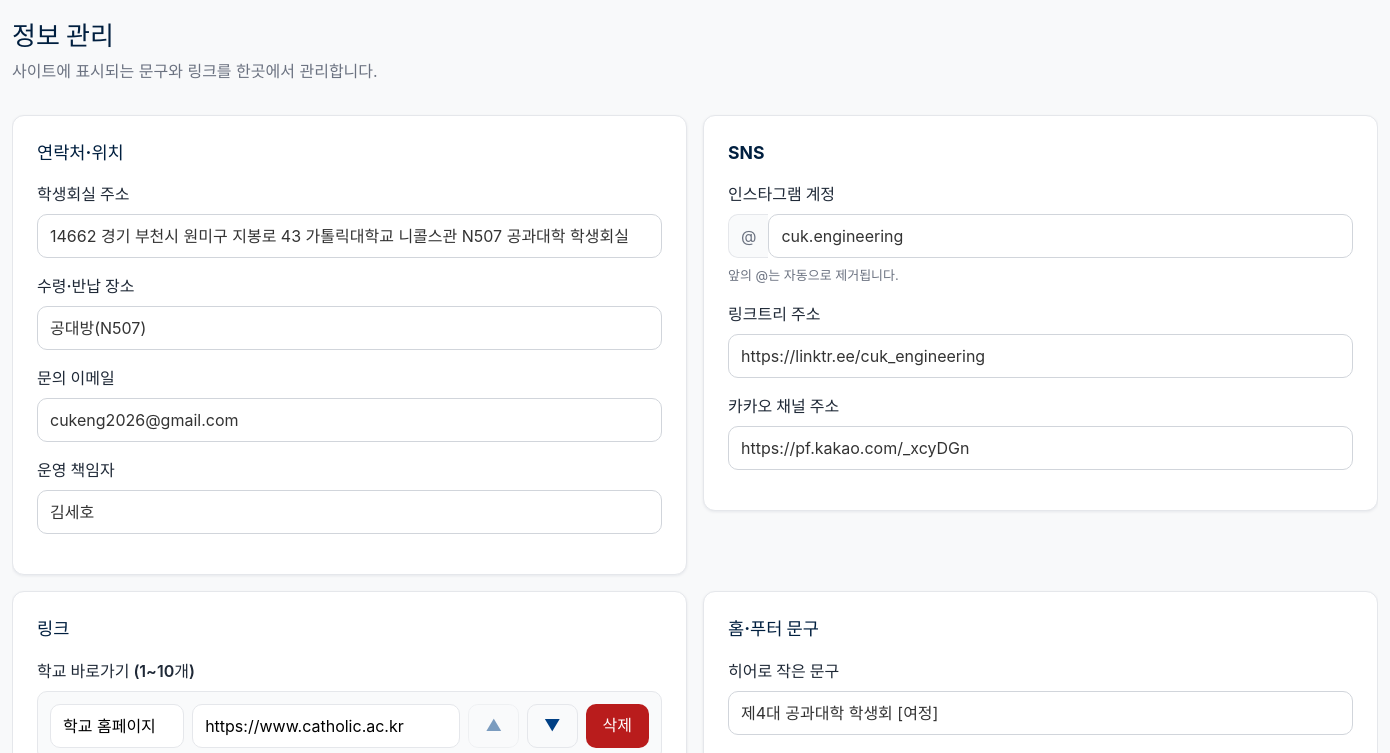
Test: AdminSiteInfoPage › detects link list changes deeply
The image size is (1390, 753).
Click the button with aria-label "1번째 링크 삭제".
click(617, 726)  # box x1=586 y1=704 x2=649 y2=748
(page scrolled)
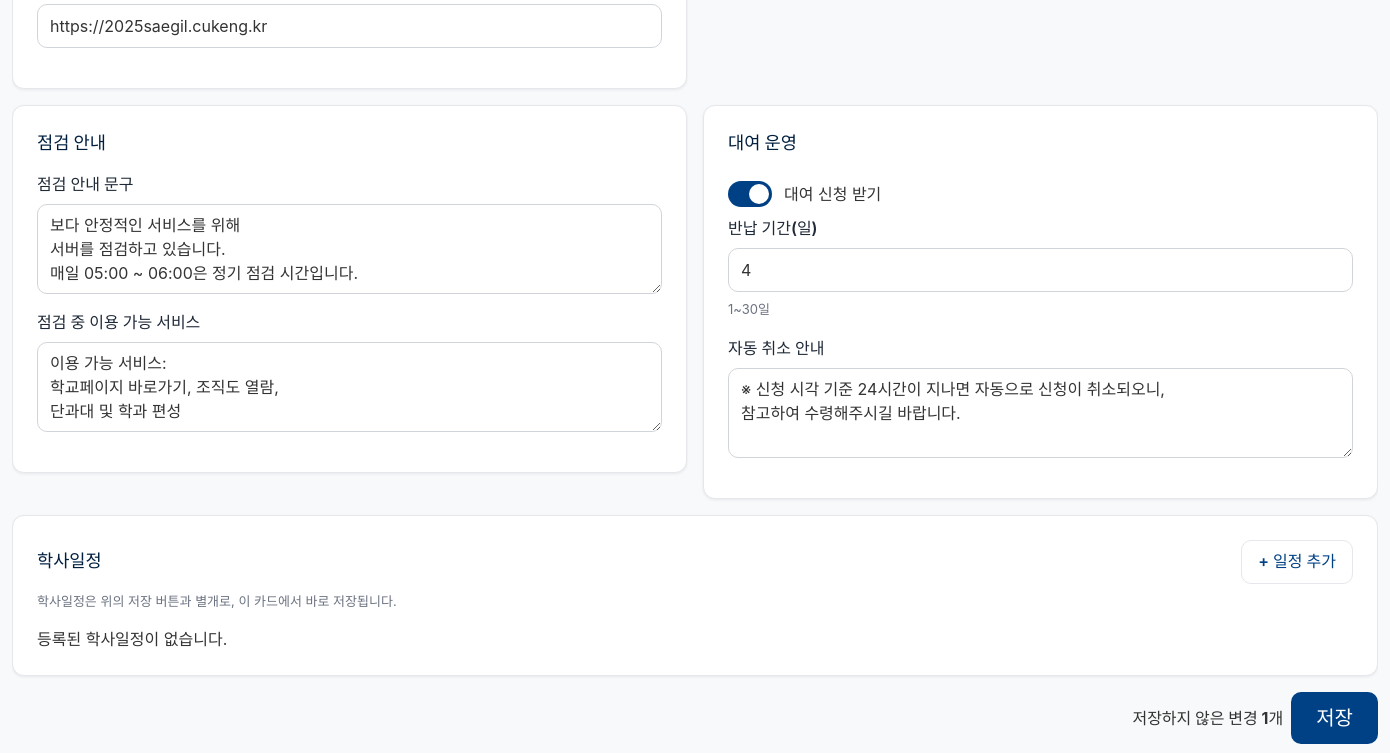
Expected: the text "저장하지 않은 변경 1개" is shown, x1=1132 y1=706 x2=1283 y2=730
